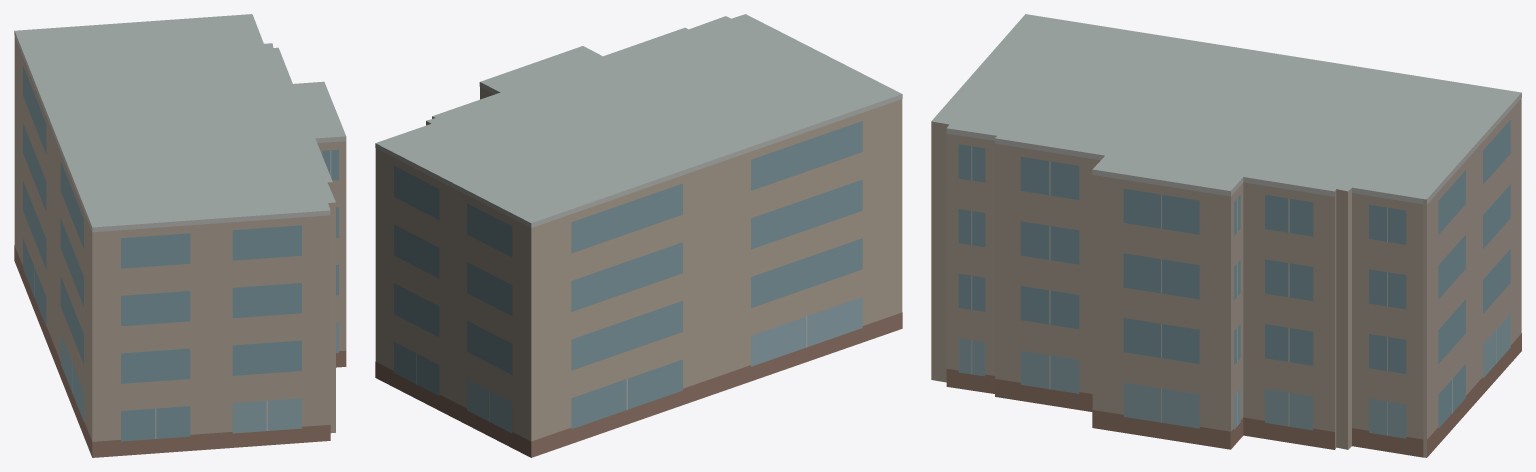
Rendered from survey-upis-32904630.glb.
3 renders of one model, left to right at view 1: azimuth 30°, elevation 25°; view 2: azimuth 150°, elevation 25°; view 3: azimuth 270°, elevation 25°, orthographic. The views are drawn at different scales.
Parts seen in each view (by area): view 1: survey-upis-32904630.tmp; view 2: survey-upis-32904630.tmp; view 3: survey-upis-32904630.tmp.
Boxes of the visible parts, box(x1,y1,x2,y2) form: survey-upis-32904630.tmp: box(14, 14, 346, 457); survey-upis-32904630.tmp: box(375, 14, 902, 457); survey-upis-32904630.tmp: box(931, 14, 1521, 457).
Size of the model in its own units: 18.16 by 11.8 by 24.44.
